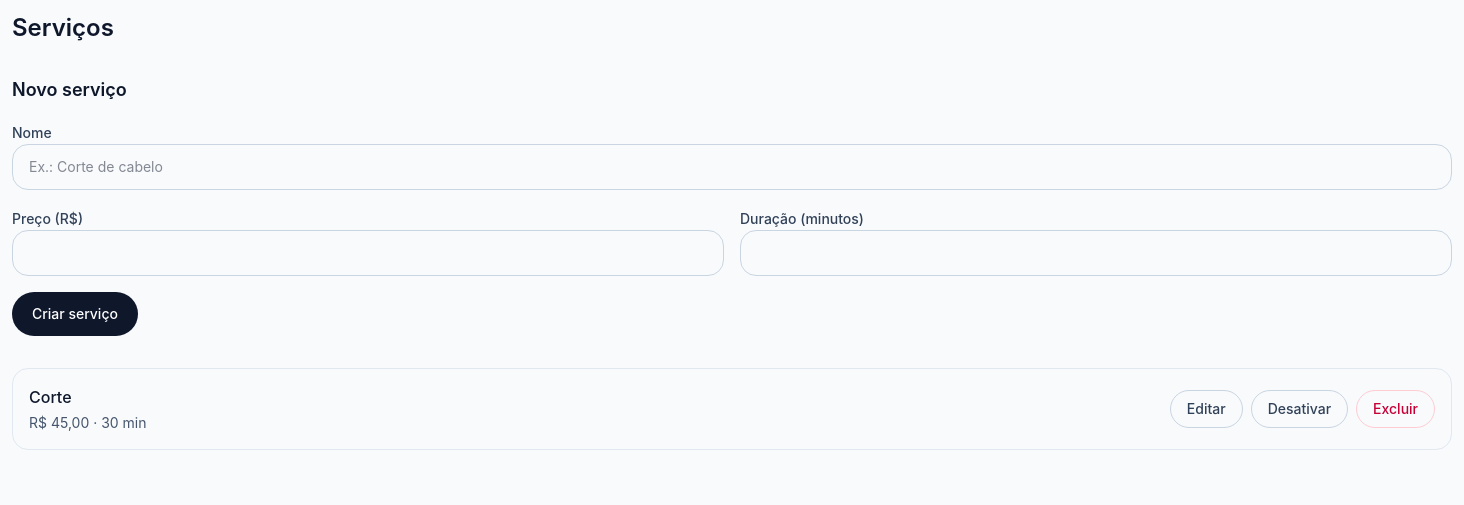
Scenario: services manager (mounted, injected fetch deps) › edits a service: PUTs the changed field plus active to the service URL
The width and height of the screenshot is (1464, 505).
Click the button "Editar".
click(1206, 409)  # box [1170,390,1243,428]
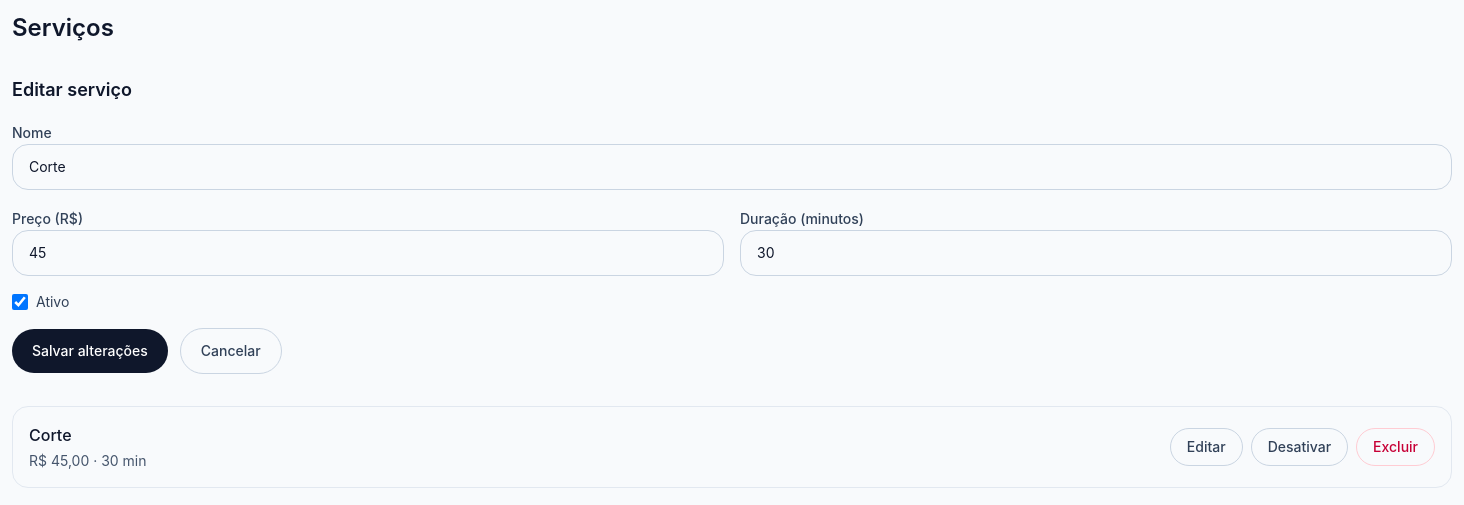
expect the field labelled "Nome" holds "Corte": met
Replace the text in the field labelled "Nome" with "Corte Degradê" at (732, 167), box [12,144,1452,190]
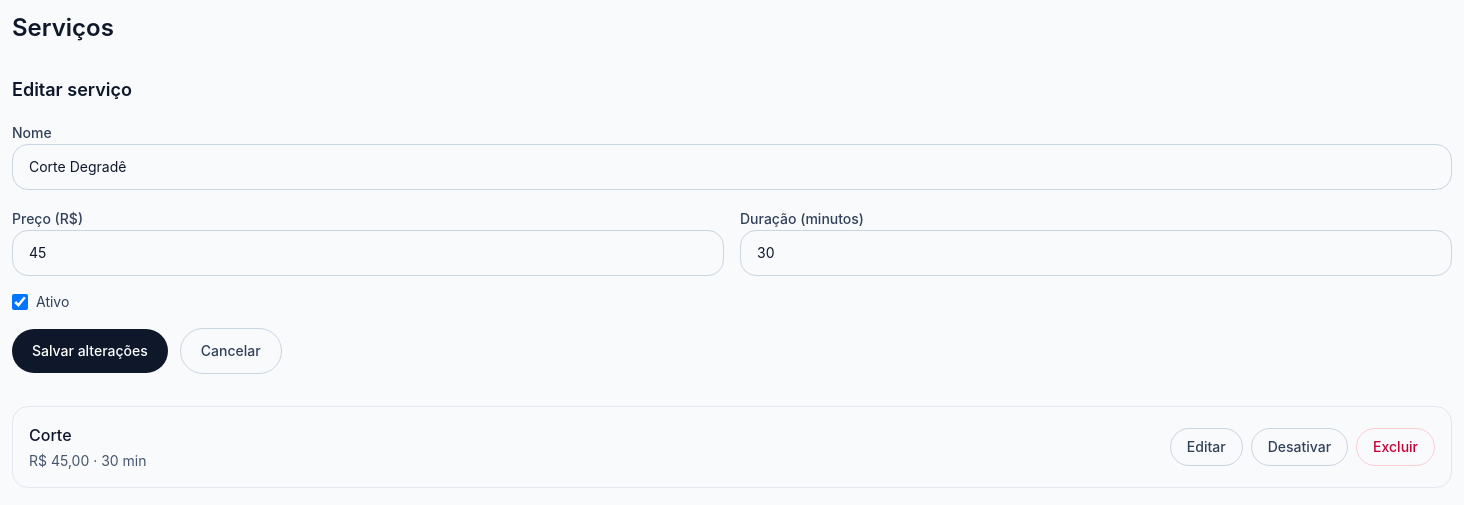
Click the button "Salvar alterações".
click(90, 351)  # box [12,329,168,373]
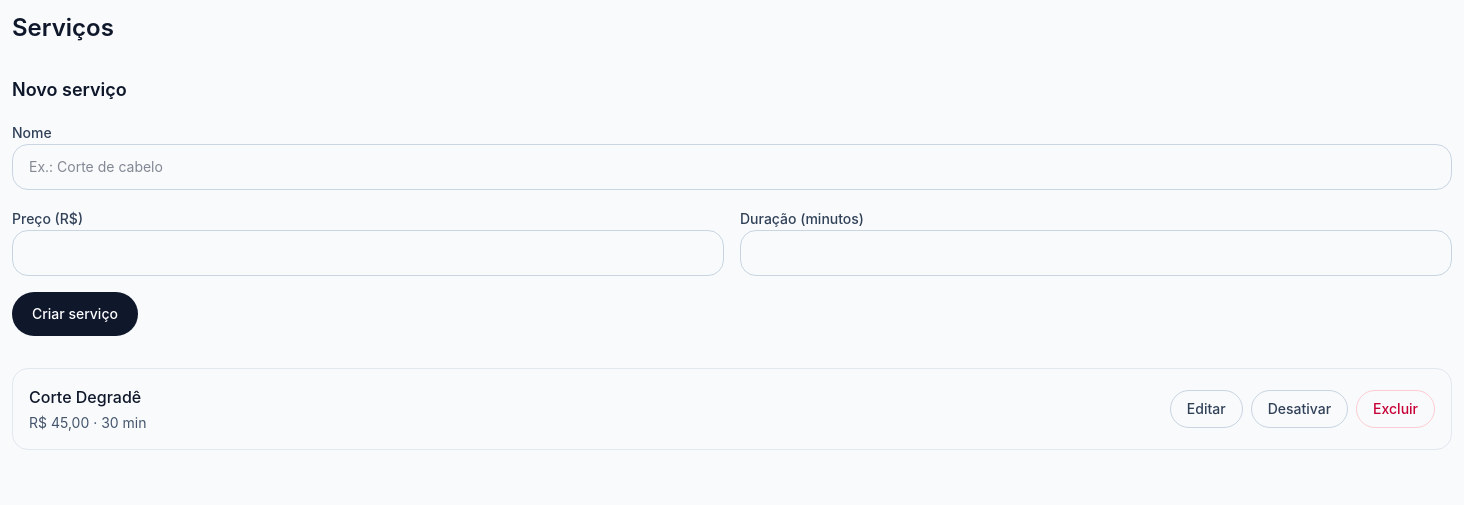
expect the text "Corte Degradê" is shown: met, box [29,385,146,409]
